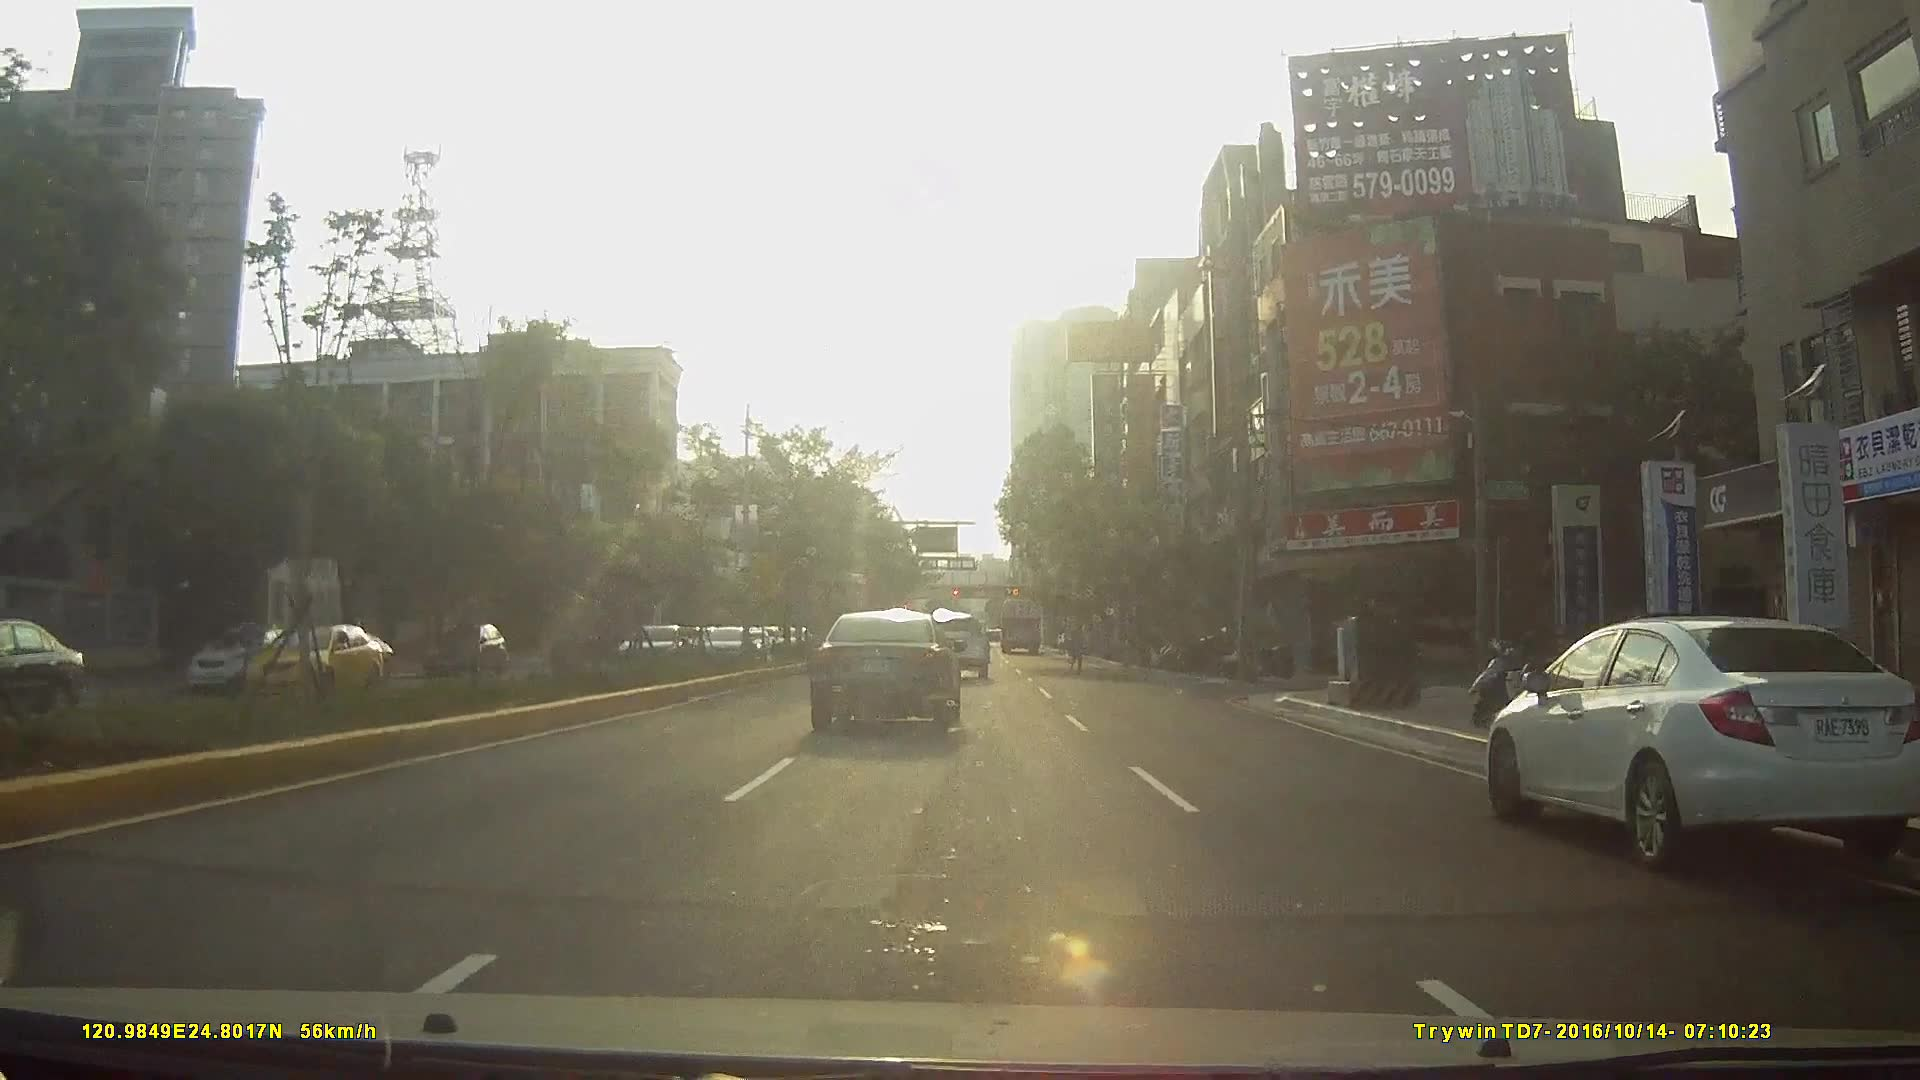vehicle: (1474, 608, 1904, 872), (808, 607, 963, 733), (204, 609, 393, 707), (1, 615, 102, 721), (179, 622, 295, 691), (916, 603, 992, 675), (297, 621, 386, 676), (417, 621, 504, 675), (617, 618, 696, 674), (998, 591, 1043, 649), (694, 622, 750, 663), (617, 618, 657, 655)
